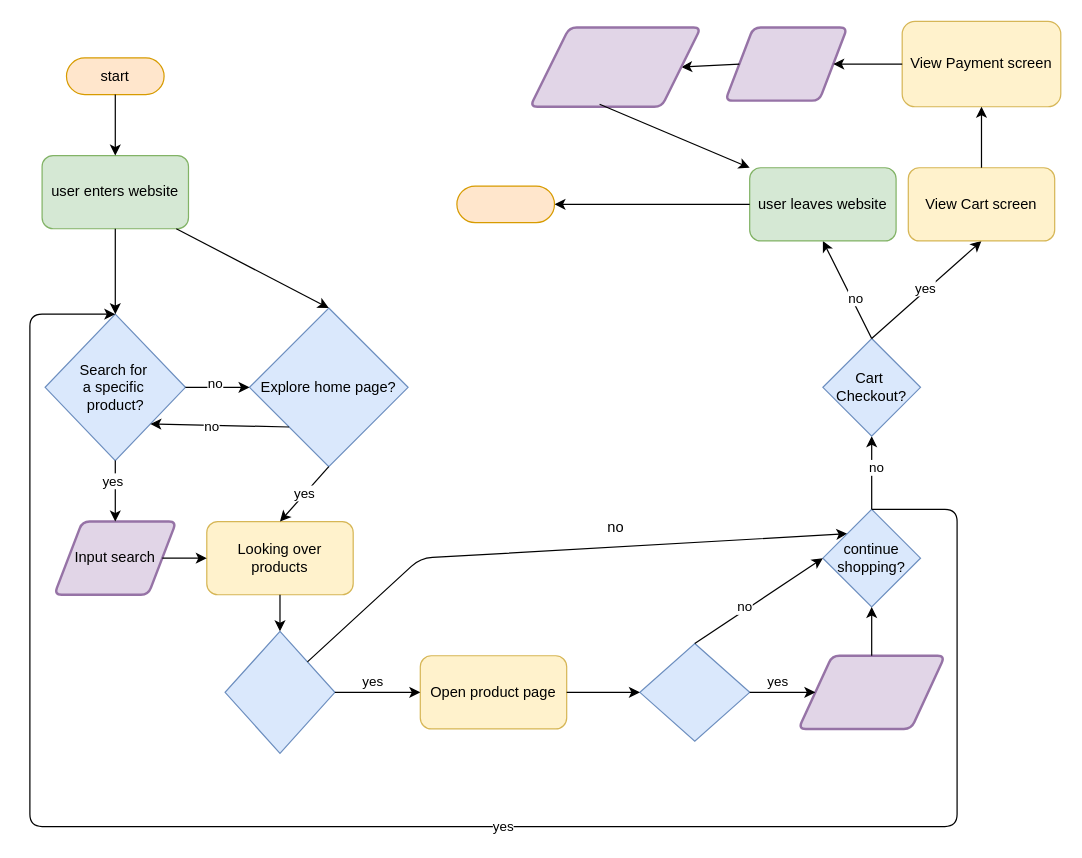
This 1082x858 diagram has some shape labels left out. The centre of each missing label's shape, as x and y in pixels:
"add to cart?" belongs at (x=694, y=691).
"end" belongs at (x=505, y=204).
"Input Payment Info" belongs at (x=785, y=63).
"Output: Cart confirmation" belongs at (x=871, y=692).
"Output: confirmation + email" belongs at (x=615, y=66).
"View a specific product?" belongs at (x=279, y=691).
